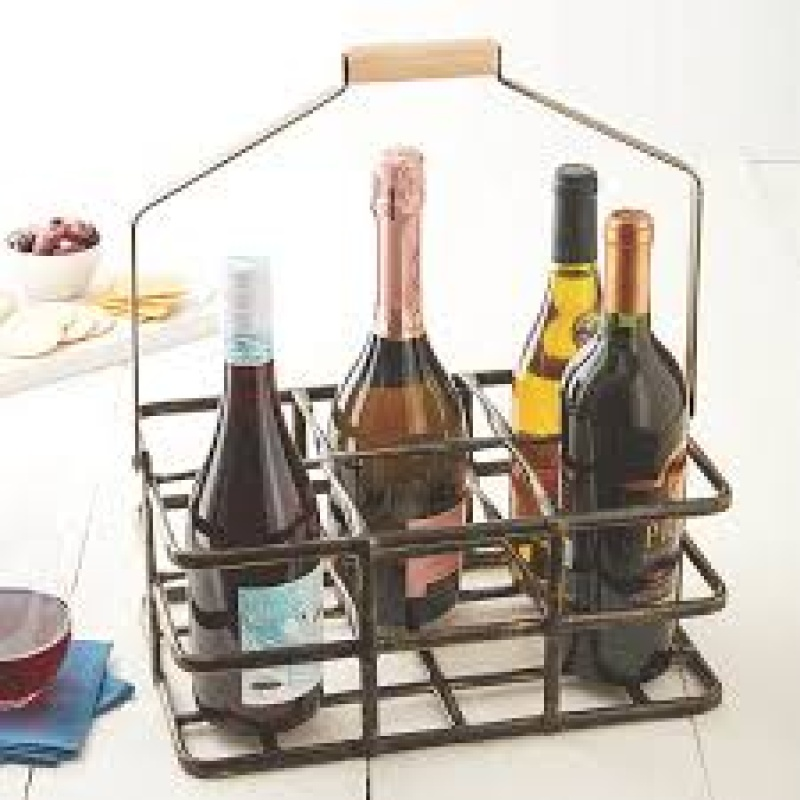wine: (550, 213, 698, 688), (189, 254, 310, 733), (339, 155, 464, 599), (519, 154, 598, 547)
